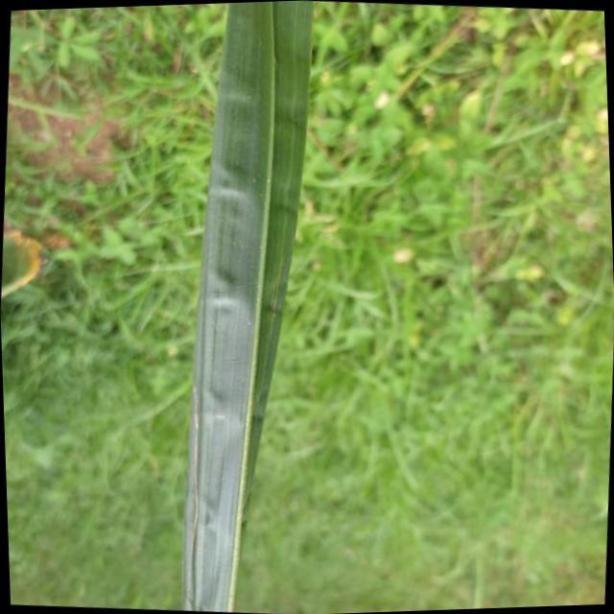Boron: (174, 0, 317, 614)
